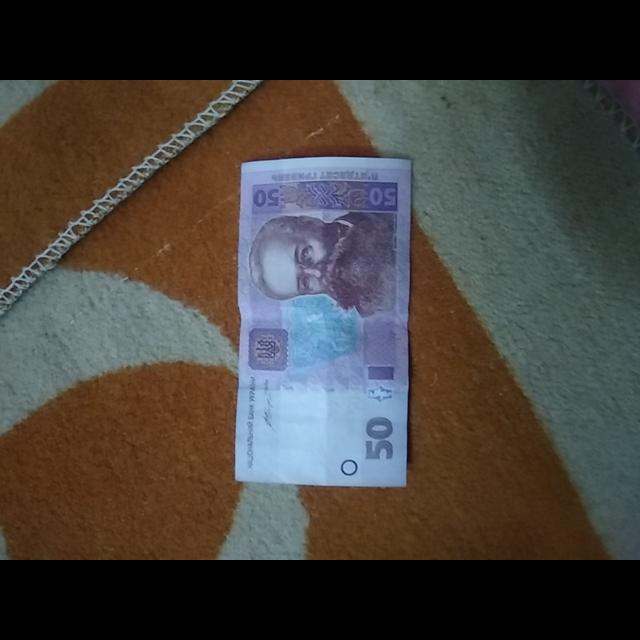50uah: (234, 157, 409, 486)
